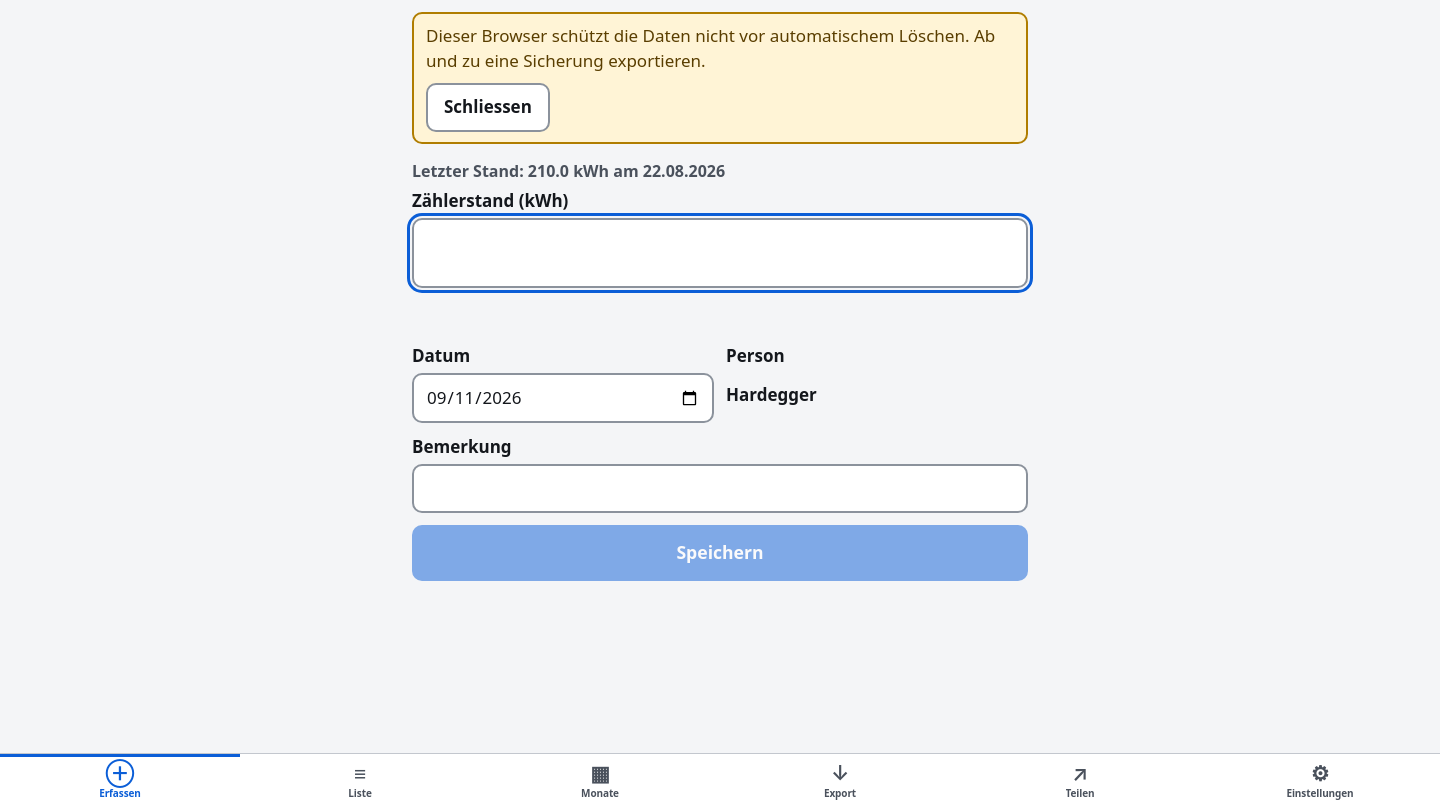
editing a reading (FR-4.2) › recalculates the following readings after an edit (FR-4.2)
Click the button "≡ Liste".
click(360, 782)  # box [240,754,480,809]
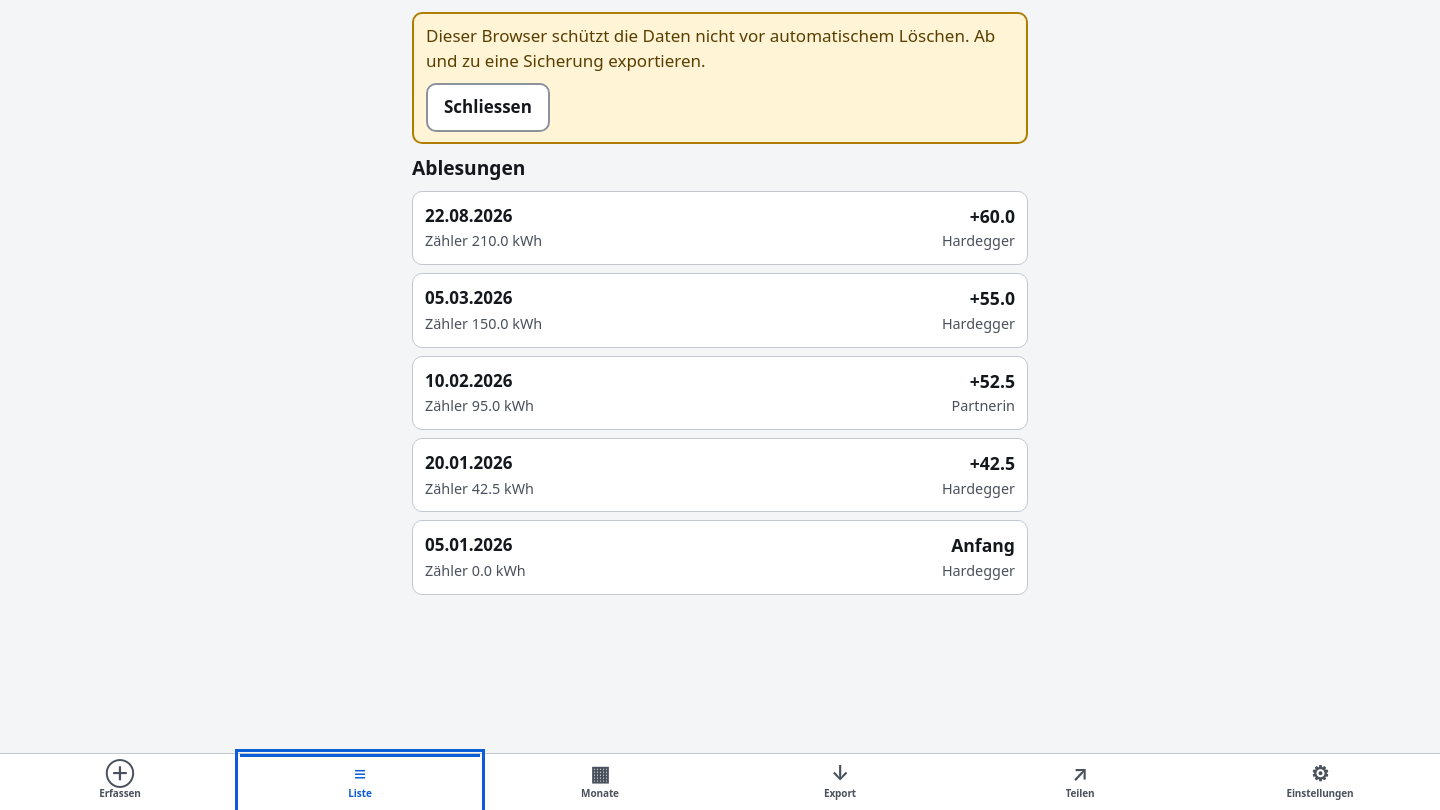
Click the button "05.03.2026 +55.0 Zähler 150.0 kWh Hardegger".
click(469, 298)  # box [412,273,1028,348]
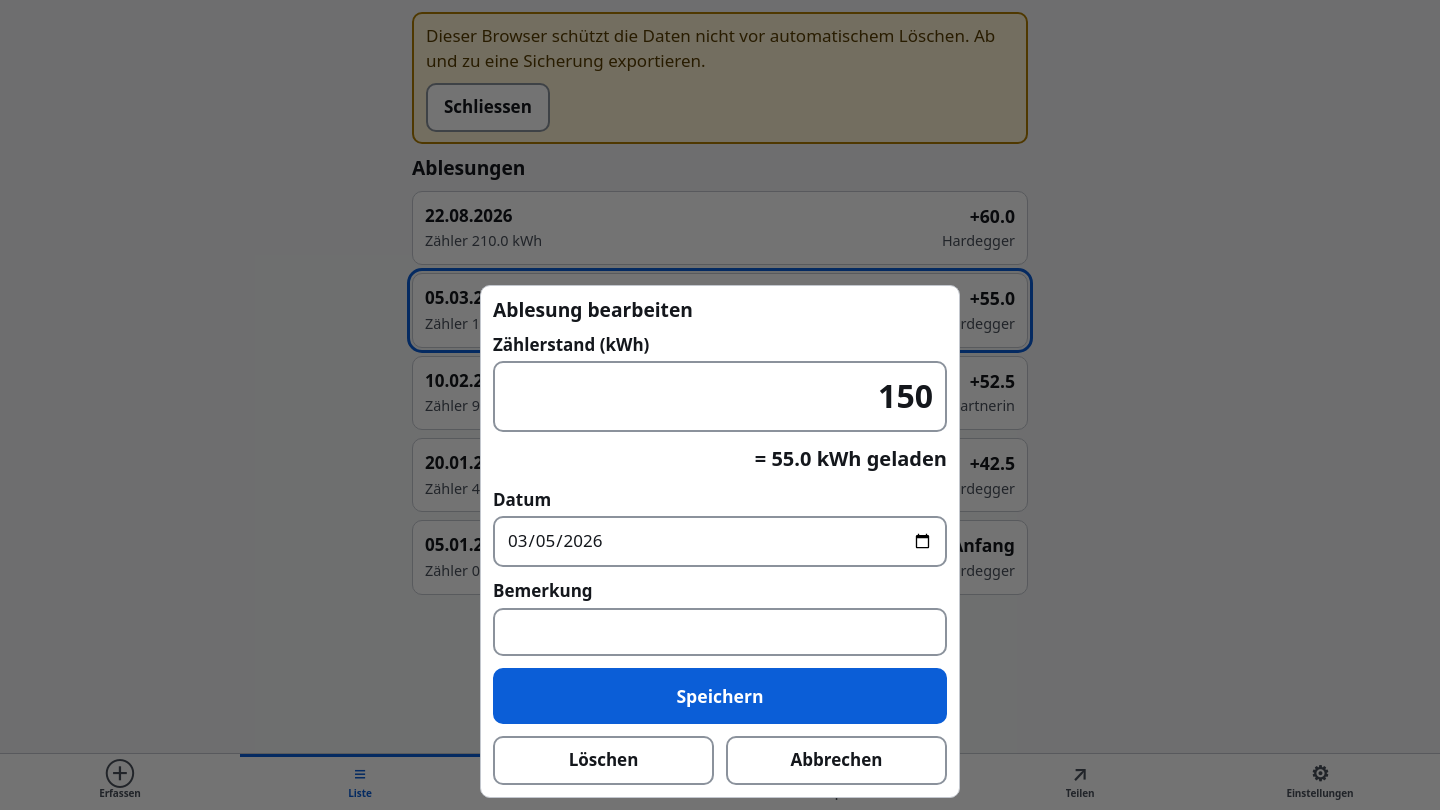
Clear the field labelled "Zählerstand (kWh)" at {"x": 720, "y": 397}, box [493,361,947,432]
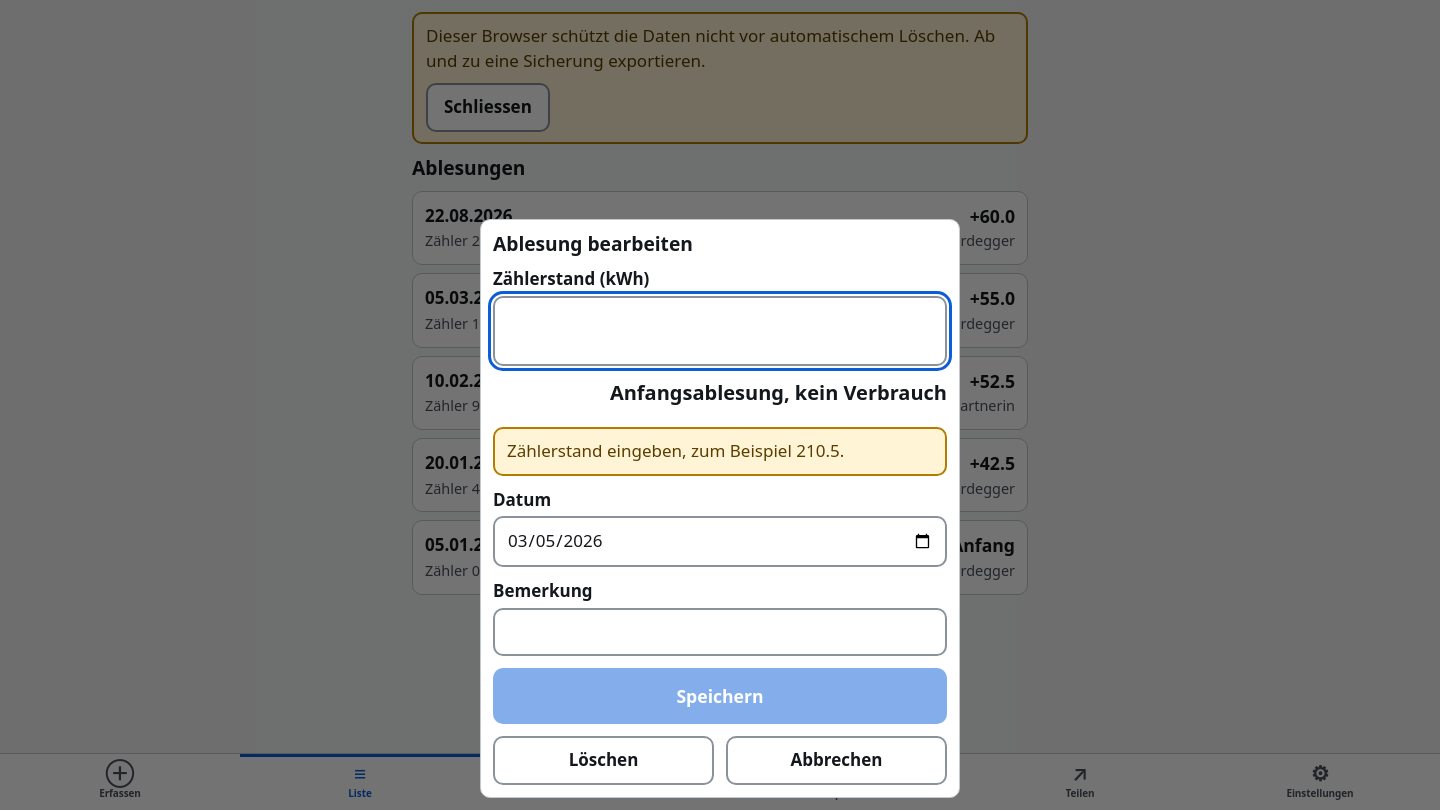
Type "160" into the field labelled "Zählerstand (kWh)".
click(720, 331); type("160")  # box [493,296,947,366]
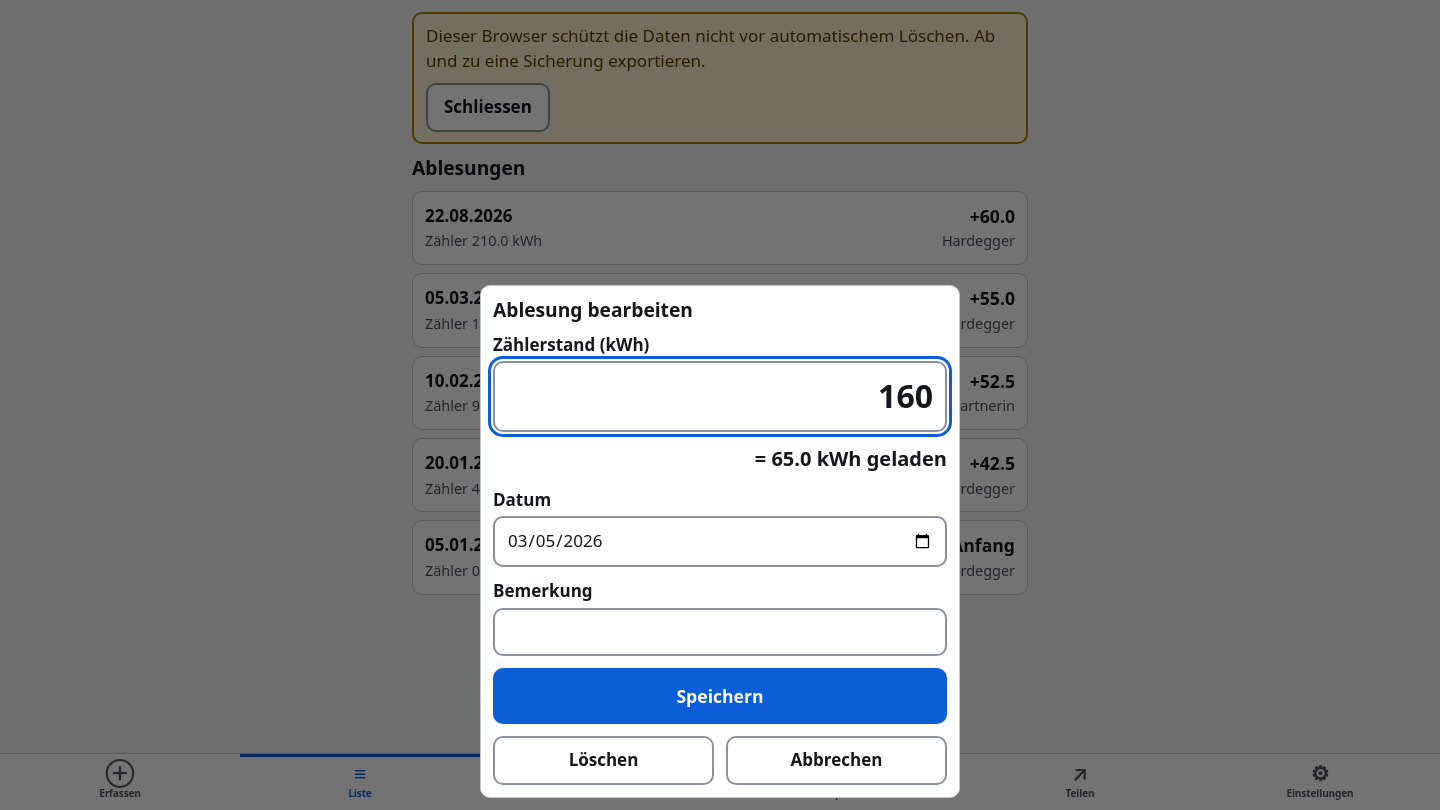
Click the button "Speichern".
click(720, 696)  # box [493,668,947,724]
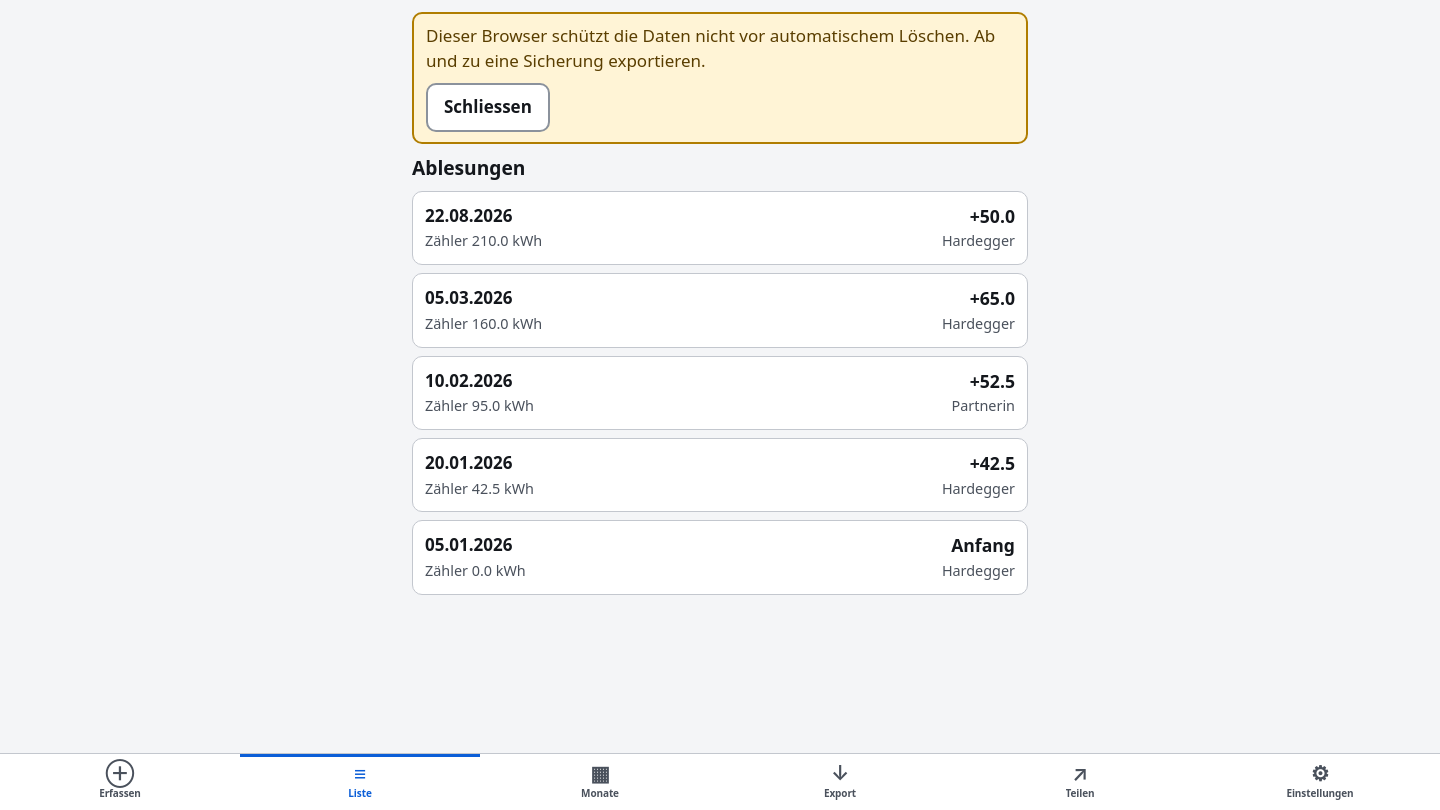
Check: the text "+50.0" is shown, box [970,204,1015,228]
Check: the text "+65.0" is shown, box [970,286,1015,310]
